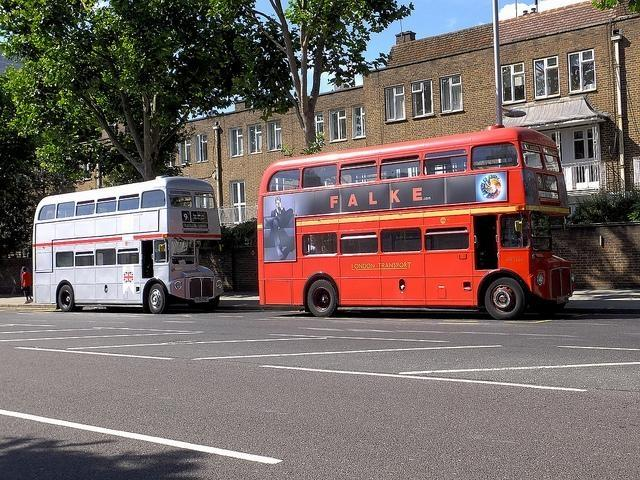bus: (257, 126, 578, 322), (31, 179, 226, 314)
